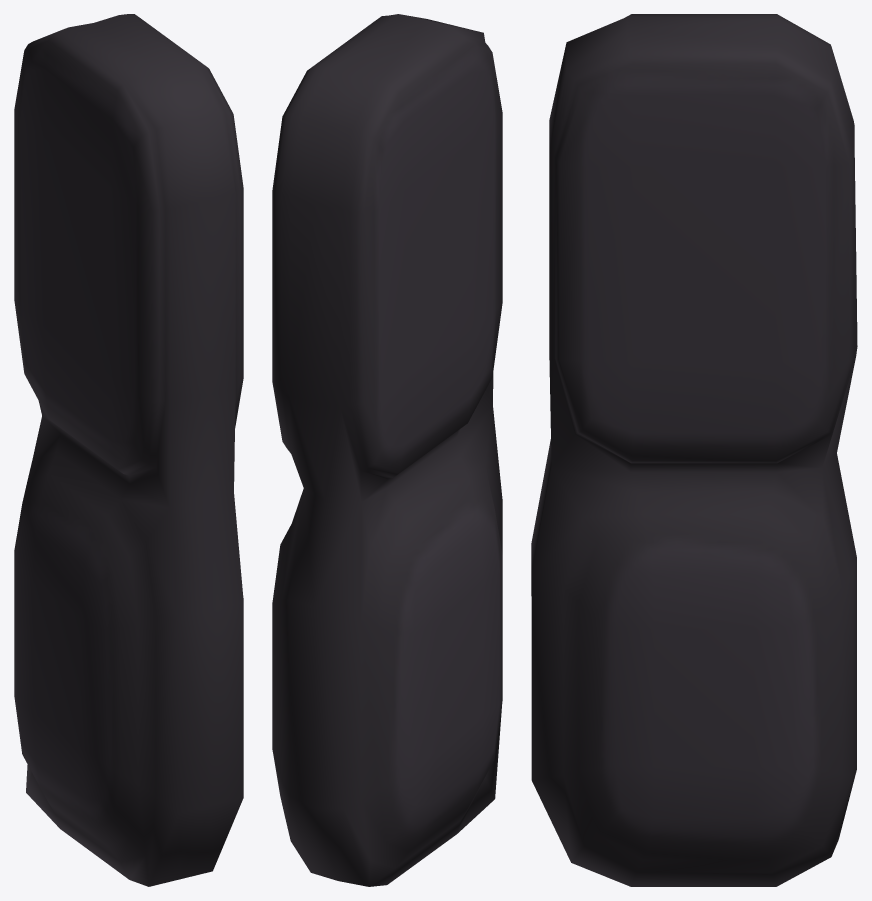
File: Pumpkin_wall_piece_1.fbx
The picture shows the model from 3 angles, left to right: view 1: azimuth 30°, elevation 25°; view 2: azimuth 150°, elevation 25°; view 3: azimuth 270°, elevation 25°; orthographic projection. The views are drawn at different scales.
Parts seen in each view (by area): view 1: Plane.006; view 2: Plane.006; view 3: Plane.006.
Boxes of the visible parts, left/top/right/bottom form: Plane.006: left=14, top=14, right=243, bottom=886; Plane.006: left=272, top=14, right=502, bottom=886; Plane.006: left=531, top=14, right=857, bottom=886.
Size of the model in its own units: 62.6 by 117 by 333.
